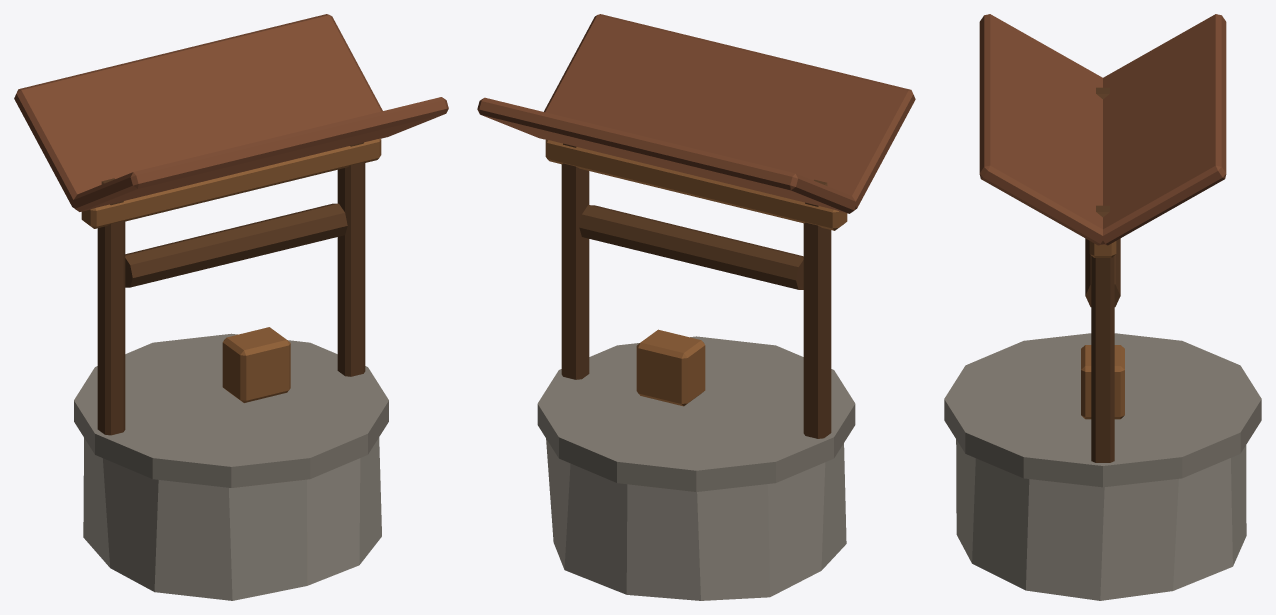
Rendered from well.glb.
3 renders of one model, left to right at view 1: azimuth 30°, elevation 25°; view 2: azimuth 150°, elevation 25°; view 3: azimuth 270°, elevation 25°, orthographic.
Visible parts, largest first — view 1: Cube.004, Cone, Cone.001, Cube.003, Cone.003, Cube.002, Cube, Cube.001, Cube.005; view 2: Cube.003, Cone.001, Cone, Cube.004, Cone.003, Cube.002, Cube, Cube.001, Cube.005; view 3: Cone.001, Cone, Cube.003, Cube.004, Cube.001, Cube.005, Cone.003.
Part boxes in pixels (x1=…): Cube.004: x1=14, y1=14, x2=382, y2=208; Cone: x1=83, y1=437, x2=381, y2=600; Cone.001: x1=74, y1=333, x2=388, y2=487; Cube.003: x1=72, y1=97, x2=448, y2=211; Cone.003: x1=125, y1=203, x2=347, y2=287; Cube.002: x1=81, y1=138, x2=381, y2=228; Cube: x1=97, y1=178, x2=125, y2=435; Cube.001: x1=337, y1=142, x2=365, y2=376; Cube.005: x1=222, y1=327, x2=290, y2=402; Cube.003: x1=544, y1=14, x2=915, y2=209; Cone.001: x1=537, y1=336, x2=855, y2=491; Cone: x1=546, y1=439, x2=846, y2=600; Cube.004: x1=477, y1=97, x2=855, y2=213; Cone.003: x1=579, y1=205, x2=803, y2=289; Cube.002: x1=545, y1=139, x2=847, y2=230; Cube: x1=803, y1=179, x2=831, y2=438; Cube.001: x1=561, y1=143, x2=589, y2=379; Cube.005: x1=636, y1=329, x2=705, y2=406; Cone.001: x1=944, y1=333, x2=1261, y2=487; Cone: x1=956, y1=439, x2=1246, y2=600; Cube.003: x1=979, y1=14, x2=1104, y2=245; Cube.004: x1=1101, y1=14, x2=1226, y2=245; Cube.001: x1=1091, y1=205, x2=1114, y2=462; Cube.005: x1=1081, y1=345, x2=1124, y2=419; Cone.003: x1=1085, y1=238, x2=1120, y2=306.
Bounding box in the file's own units: 2.5 × 3.37 × 2.16.
